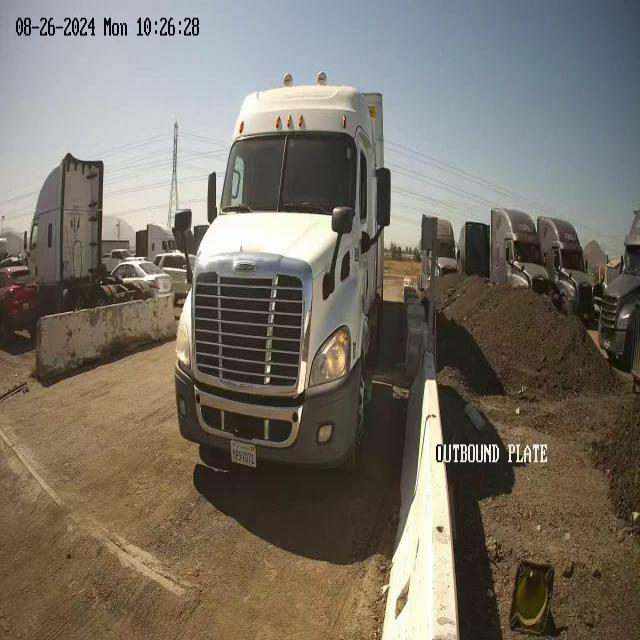TRUCK_OUT: (172, 71, 392, 476)
